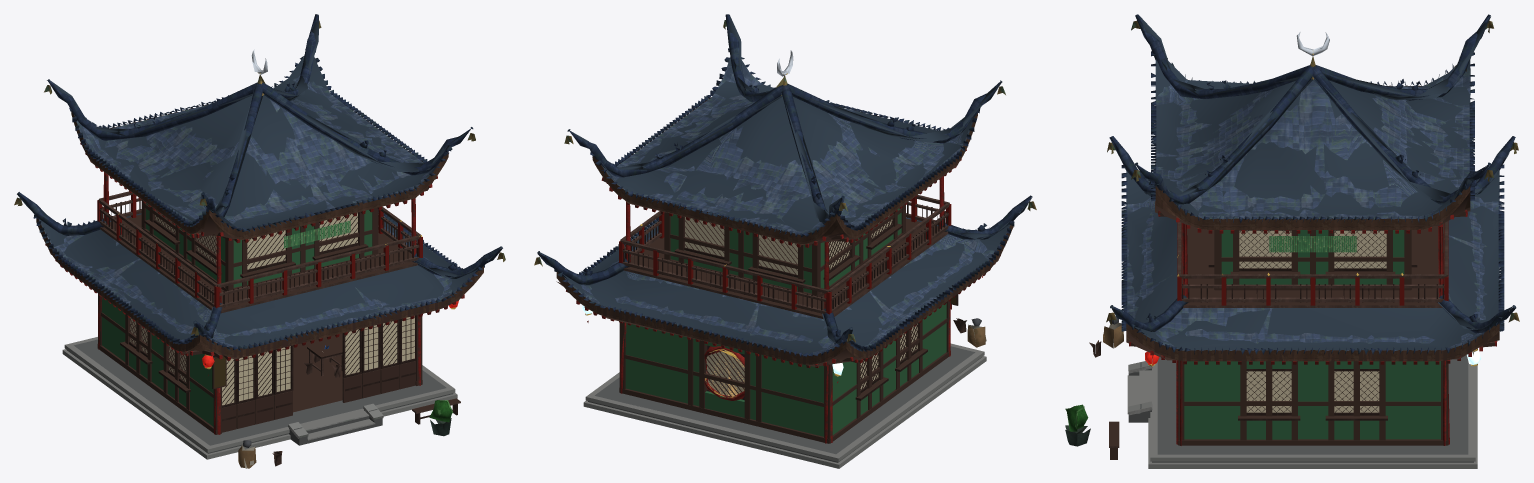
Rendered from prop_teahouse.gltf.
3 views of the same model, side by side, from view 1: azimuth 30°, elevation 25°; view 2: azimuth 150°, elevation 25°; view 3: azimuth 270°, elevation 25° (orthographic). The views are drawn at different scales.
Visible parts, largest first — view 1: Far, Near; view 2: Far, Near; view 3: Far, Near.
Boxes of the visible parts, bbox=[...] form: Far: bbox=[17, 14, 505, 468]; Near: bbox=[14, 14, 505, 468]; Far: bbox=[537, 14, 1032, 468]; Near: bbox=[534, 14, 1036, 443]; Far: bbox=[1065, 15, 1516, 468]; Near: bbox=[1065, 14, 1519, 447].
Bounding box in the file's own units: 11.31 × 11.1 × 12.43.
Materials: 28 (19 with a texture image).
